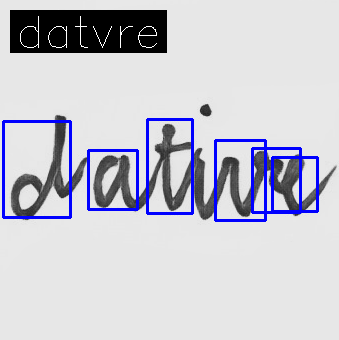a: (90, 152, 137, 213)
d: (7, 113, 70, 222)
e: (278, 152, 323, 217)
i: (192, 103, 219, 222)
t: (150, 122, 190, 213)
v: (224, 147, 274, 220)
